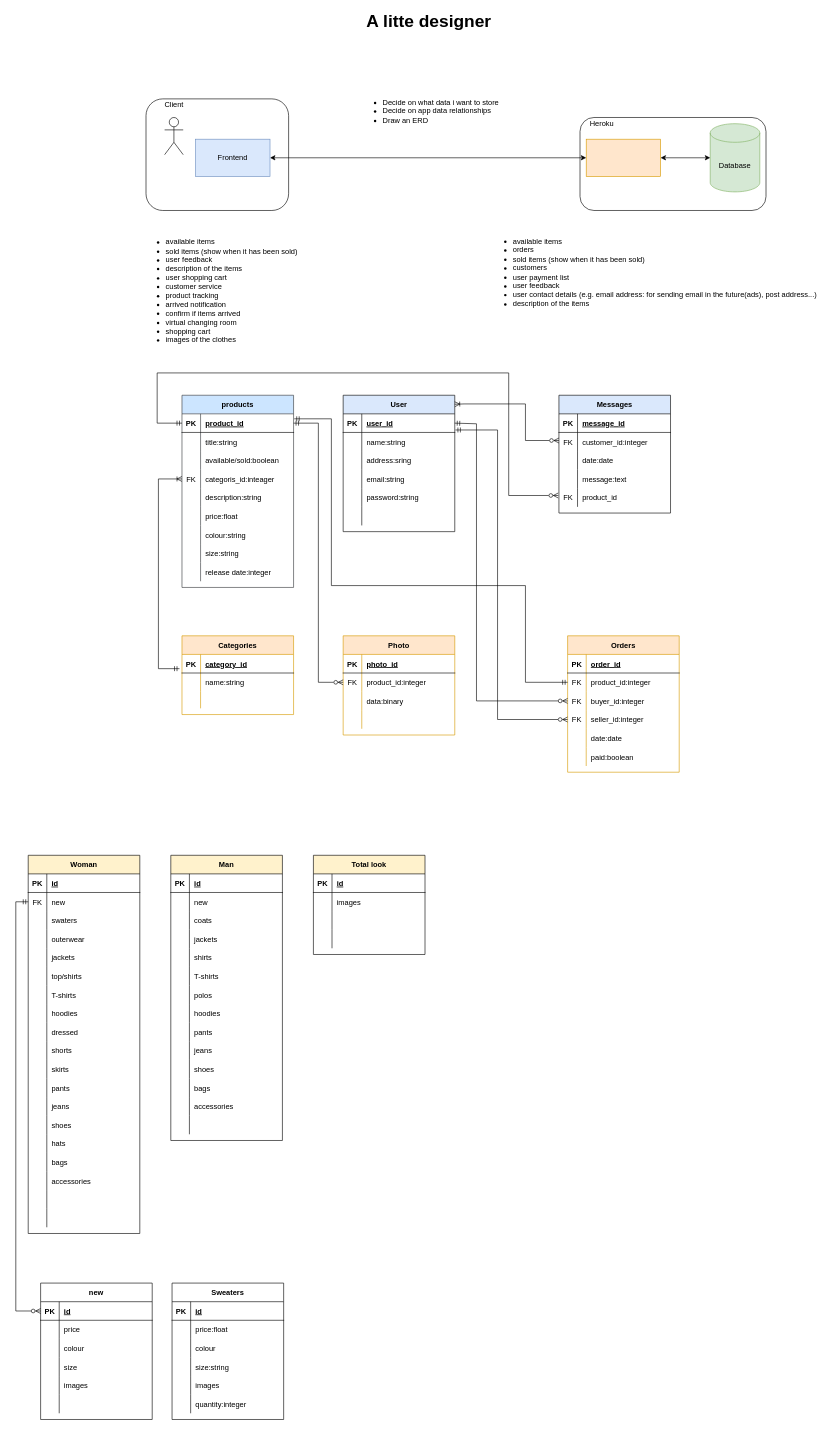
This 839x1430 diagram has some shape labels left out. The centre of each missing label's shape, as x and y in pixels:
"Backend" goes at (x=623, y=157).
"Customer" goes at (x=173, y=136).
